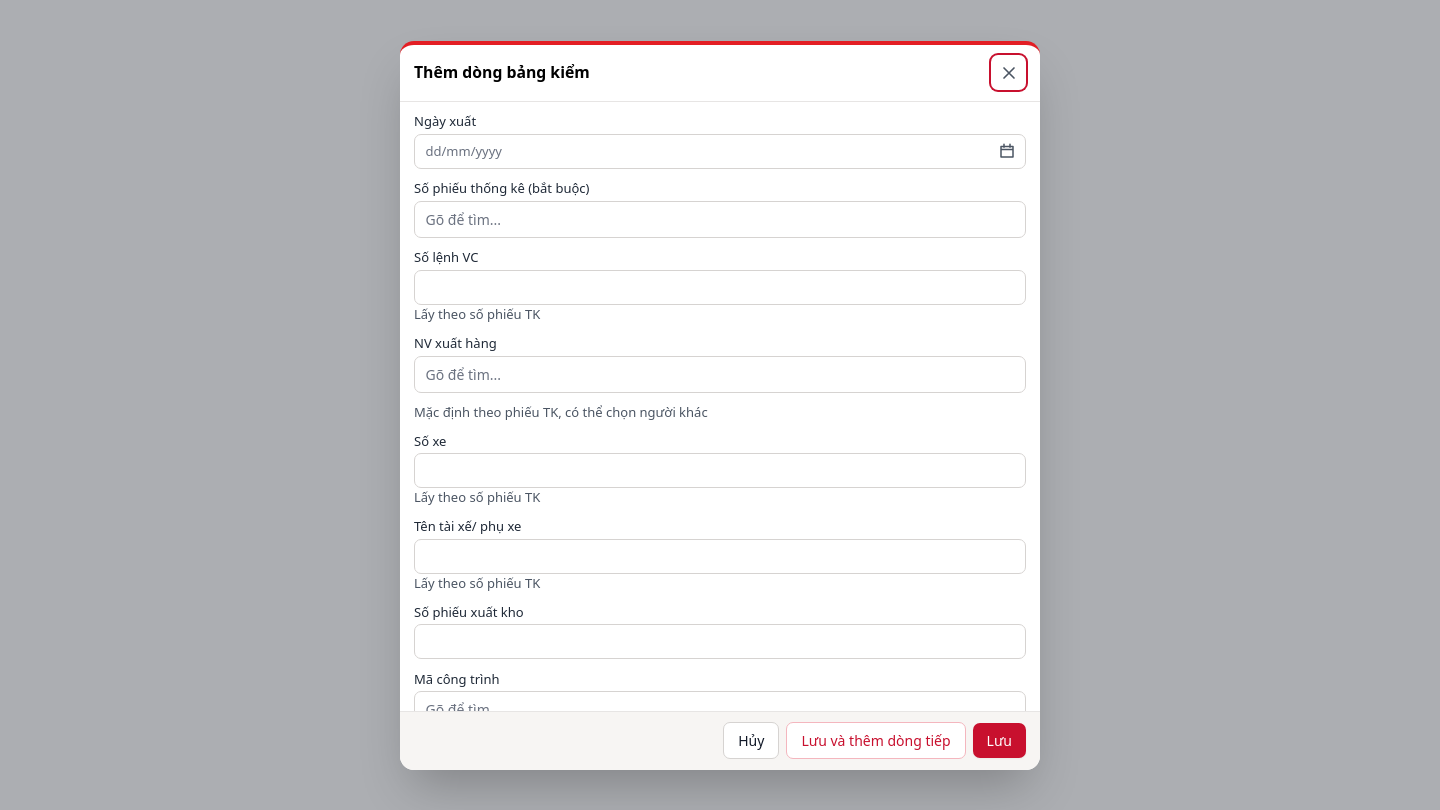
Test: InspectionFormModal - dòng cũ chưa có số TK › Thêm mới vẫn bắt buộc số TK
What coordinates should you click on to do the following:
click the button with test id "inspection-save"
I would click on:
 (999, 740)
Its box is [973,723,1026,758].
(page scrolled)
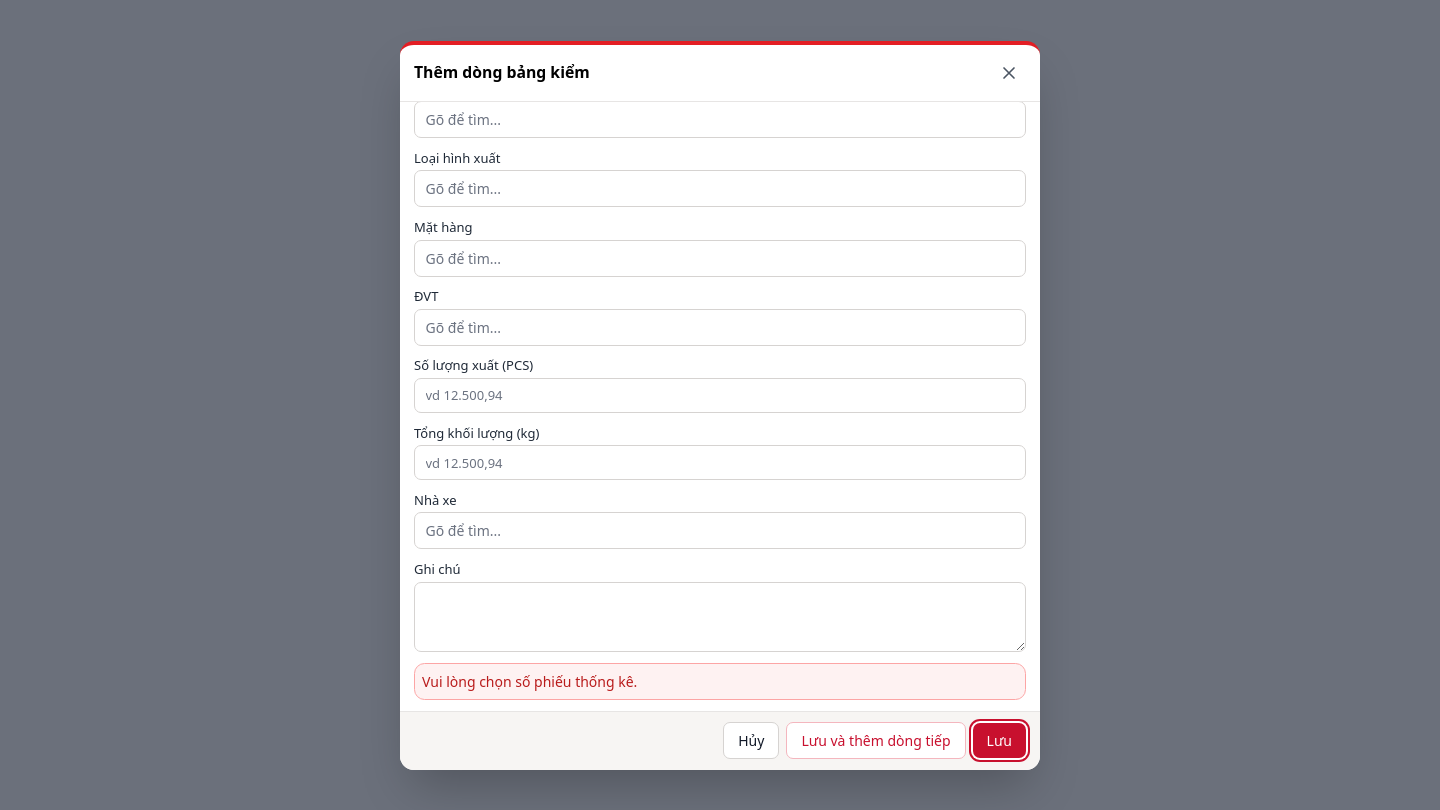
Result: the message with test id "inspection-error" shows "số phiếu thống kê" at [422,672,637,691]
